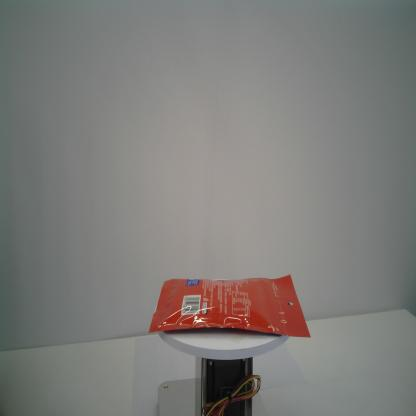Dried Fruit: (148, 274, 312, 340)
